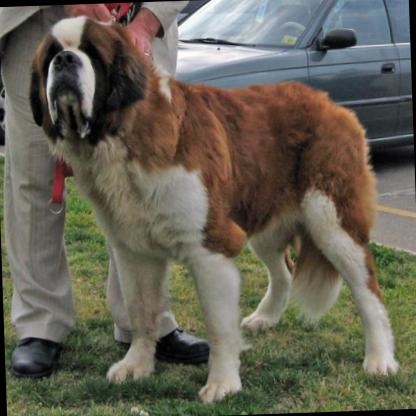Saint_Bernard: (23, 3, 403, 415)
